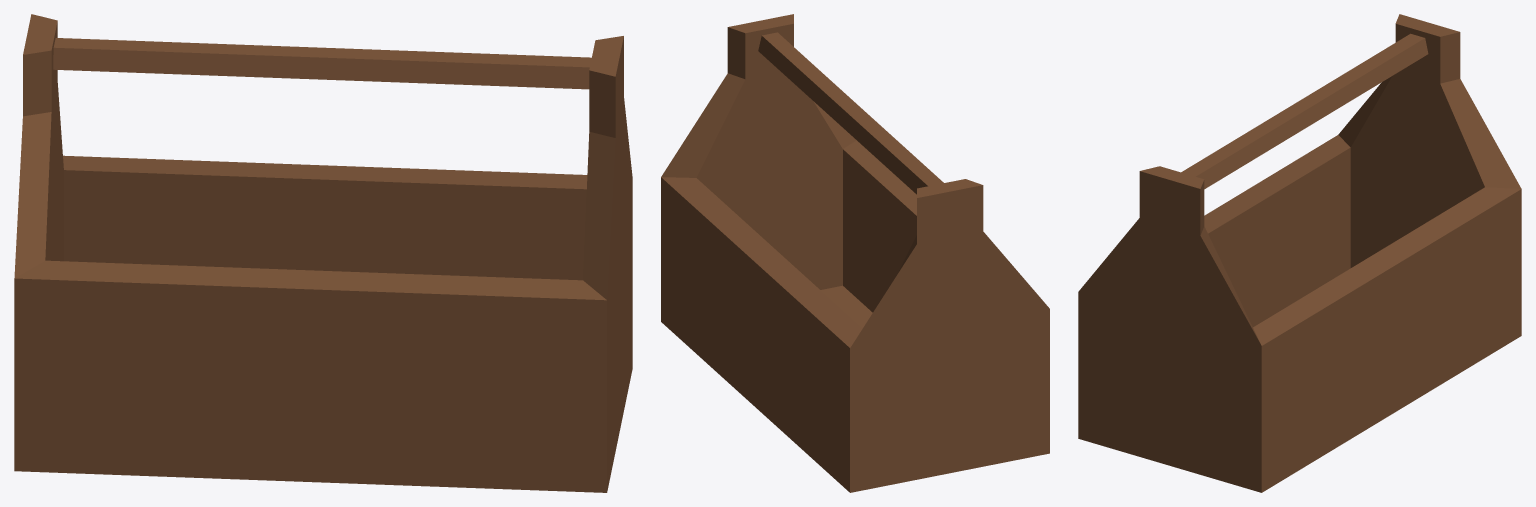
The model's file is Toolbox.fbx.
3 views of the same model, side by side, from view 1: azimuth 30°, elevation 25°; view 2: azimuth 150°, elevation 25°; view 3: azimuth 270°, elevation 25° (orthographic). The views are drawn at different scales.
Visible parts, largest first — view 1: TOOLBOX; view 2: TOOLBOX; view 3: TOOLBOX.
Boxes of the visible parts, <box> form: TOOLBOX: <box>14,14,632,492</box>; TOOLBOX: <box>661,14,1049,492</box>; TOOLBOX: <box>1078,14,1521,492</box>.
Bounding box in the file's own units: 9.15 × 5.77 × 8.12.
